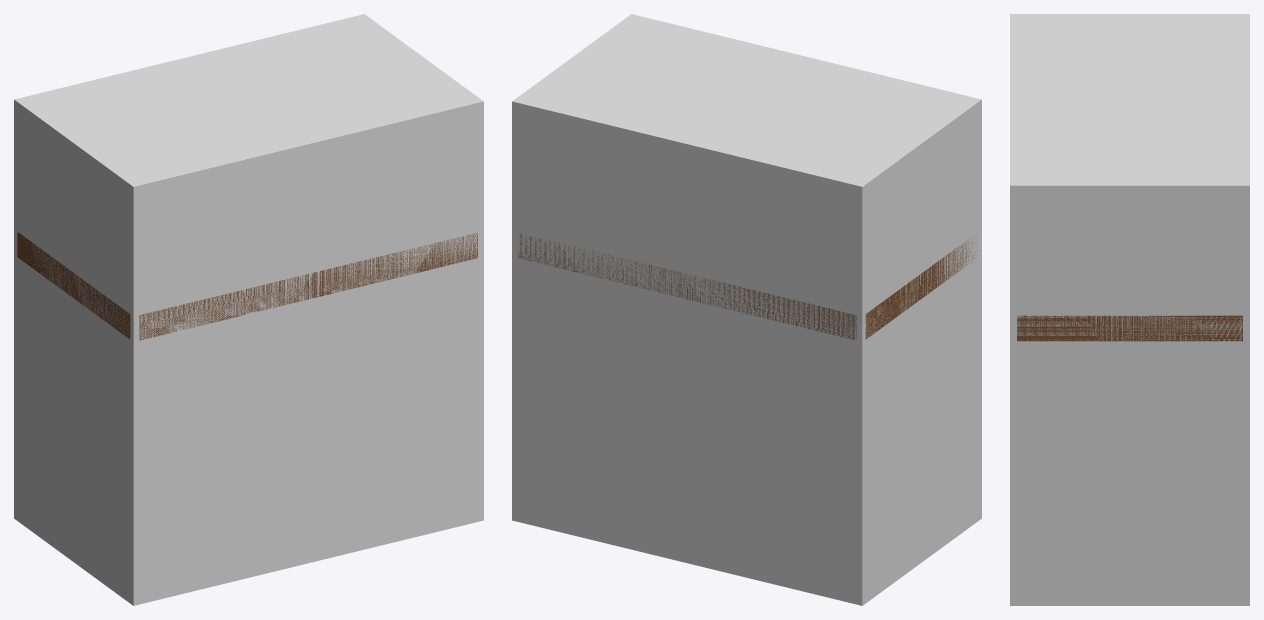
Rendered from restroom-vanity_luxury.glb.
3 views of the same model, side by side, from view 1: azimuth 30°, elevation 25°; view 2: azimuth 150°, elevation 25°; view 3: azimuth 270°, elevation 25° (orthographic).
Visible parts, largest first — view 1: COL_restroom-vanity, MESH_Countertop; view 2: COL_restroom-vanity, MESH_Countertop; view 3: COL_restroom-vanity, MESH_Countertop.
Part boxes in pixels (x1,y1,x2,y2): COL_restroom-vanity: (14,14,483,605); MESH_Countertop: (17,232,477,340); COL_restroom-vanity: (512,14,981,605); MESH_Countertop: (518,233,976,339); COL_restroom-vanity: (1010,14,1249,605); MESH_Countertop: (1017,315,1242,341).
Bounding box in the file's own units: 1.05 × 1.2 × 0.62.
